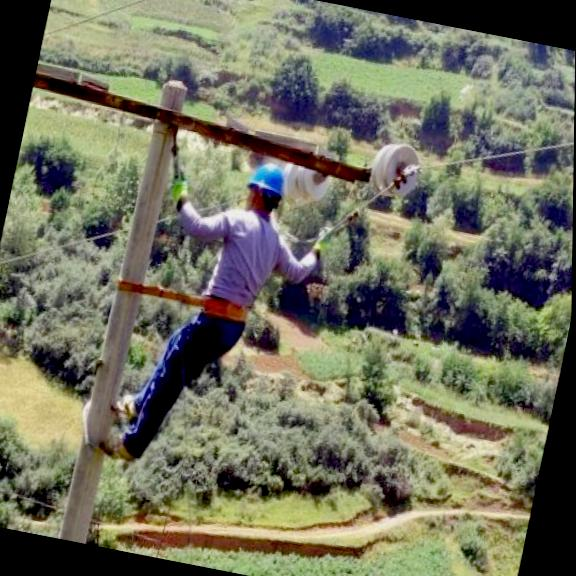no_safety_vest: (195, 202, 283, 324)
